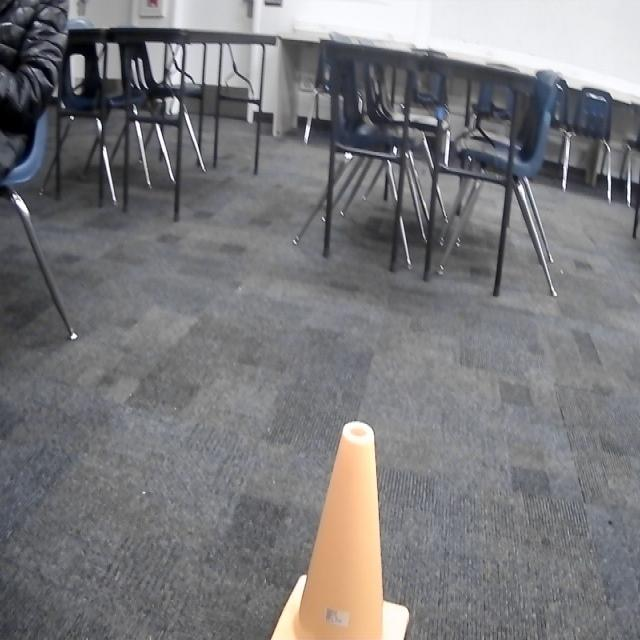cone: (270, 420, 409, 640)
